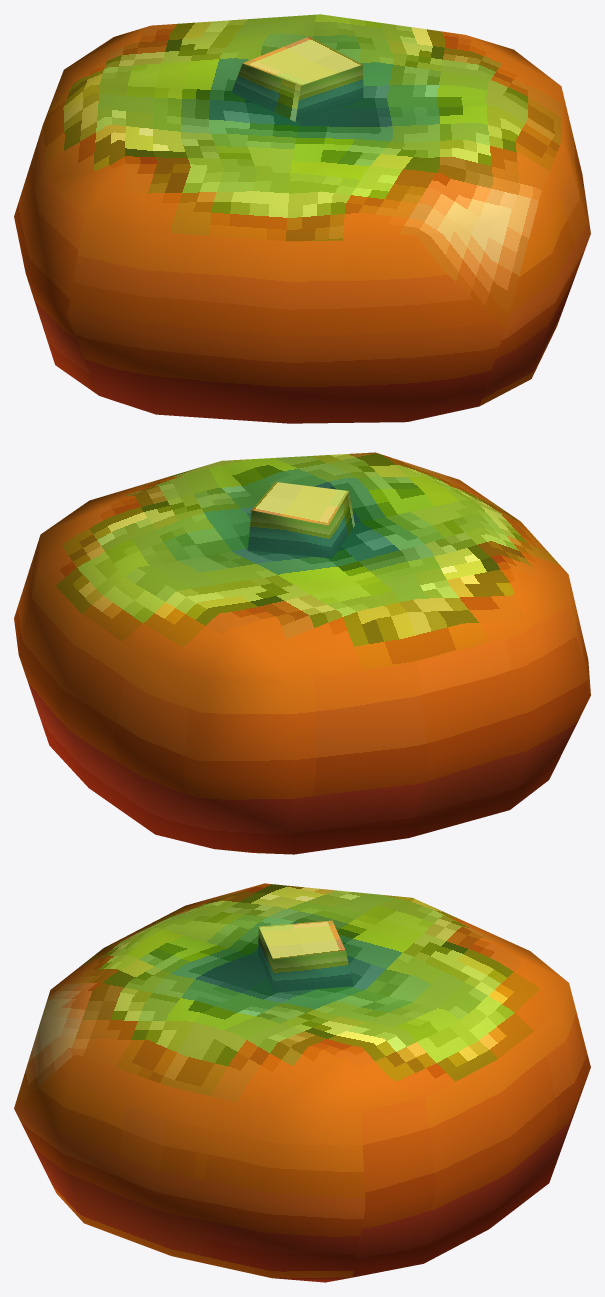
Rendered from fg_persimmon.dae.
3 renders of one model, top to bottom at view 1: azimuth 30°, elevation 25°; view 2: azimuth 150°, elevation 25°; view 3: azimuth 270°, elevation 25°, orthographic. The views are drawn at different scales.
Parts seen in each view (by area): view 1: fg_persimmon; view 2: fg_persimmon; view 3: fg_persimmon.
Part boxes in pixels (x1=…): fg_persimmon: x1=14, y1=14, x2=590, y2=423; fg_persimmon: x1=14, y1=452, x2=590, y2=854; fg_persimmon: x1=14, y1=883, x2=590, y2=1282.
Size of the model in its own units: 15.48 by 8.68 by 15.63.
1 material, 1 textured.
